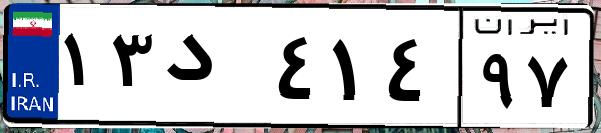1: (330, 28, 385, 110), (57, 26, 110, 100)
3: (110, 28, 158, 98)
4: (270, 28, 330, 110), (385, 28, 445, 110)
7: (525, 38, 570, 115)
9: (475, 38, 525, 113)
د: (158, 20, 270, 120)
